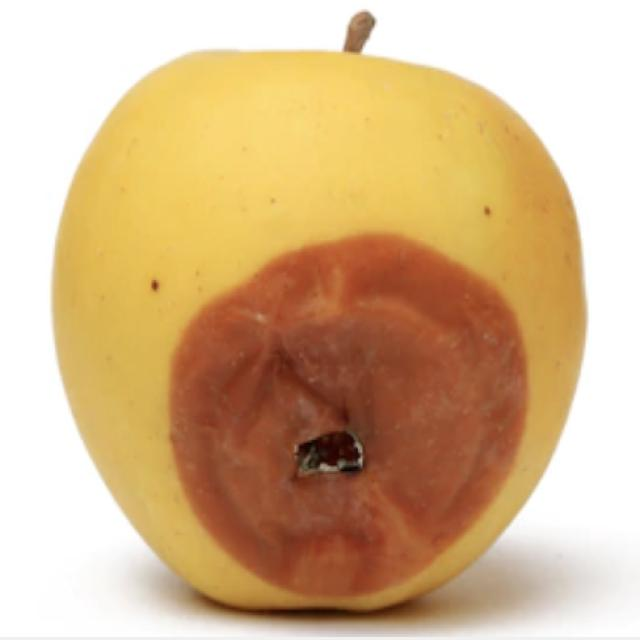apple: (53, 17, 586, 610)
